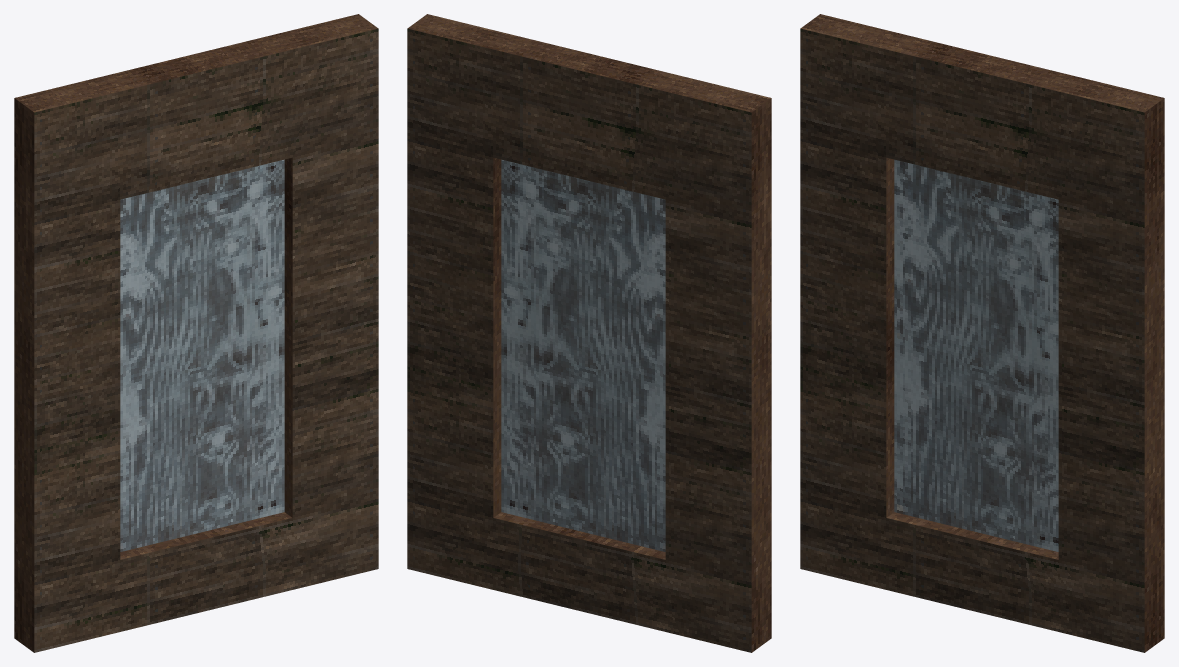
The model's file is window_single_blocked.glb.
3 renders of one model, left to right at view 1: azimuth 30°, elevation 25°; view 2: azimuth 150°, elevation 25°; view 3: azimuth 330°, elevation 25°, orthographic.
Parts seen in each view (by area): view 1: window_single_blocked2, window_block_003; view 2: window_single_blocked2, window_block_003; view 3: window_single_blocked2, window_block_003.
Part boxes in pixels (bbox=[...]): window_single_blocked2: bbox=[14, 14, 378, 652]; window_block_003: bbox=[120, 159, 284, 551]; window_single_blocked2: bbox=[407, 14, 771, 652]; window_block_003: bbox=[501, 159, 665, 551]; window_single_blocked2: bbox=[800, 14, 1164, 652]; window_block_003: bbox=[894, 159, 1058, 551].
Size of the model in its own units: 2 by 3 by 0.2.
2 materials, 2 textured.
